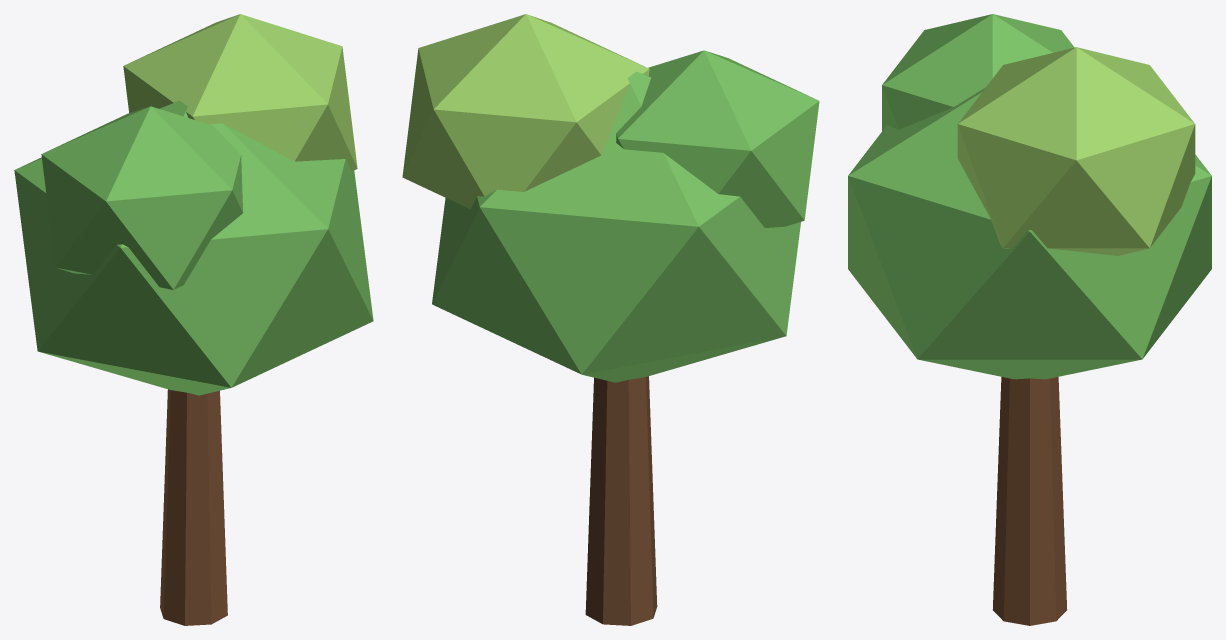
The model's file is tree_round.glb.
3 renders of one model, left to right at view 1: azimuth 30°, elevation 25°; view 2: azimuth 150°, elevation 25°; view 3: azimuth 270°, elevation 25°, orthographic. The views are drawn at different scales.
Visible parts, largest first — view 1: Leaves, Trunk-col; view 2: Leaves, Trunk-col; view 3: Leaves, Trunk-col.
Part boxes in pixels (x1,y1,x2,y2): Leaves: [14, 14, 373, 395]; Trunk-col: [160, 389, 227, 625]; Leaves: [402, 14, 819, 382]; Trunk-col: [585, 376, 657, 625]; Leaves: [848, 14, 1211, 379]; Trunk-col: [992, 377, 1067, 625].
Size of the model in its own units: 2.15 by 3.55 by 1.96.
